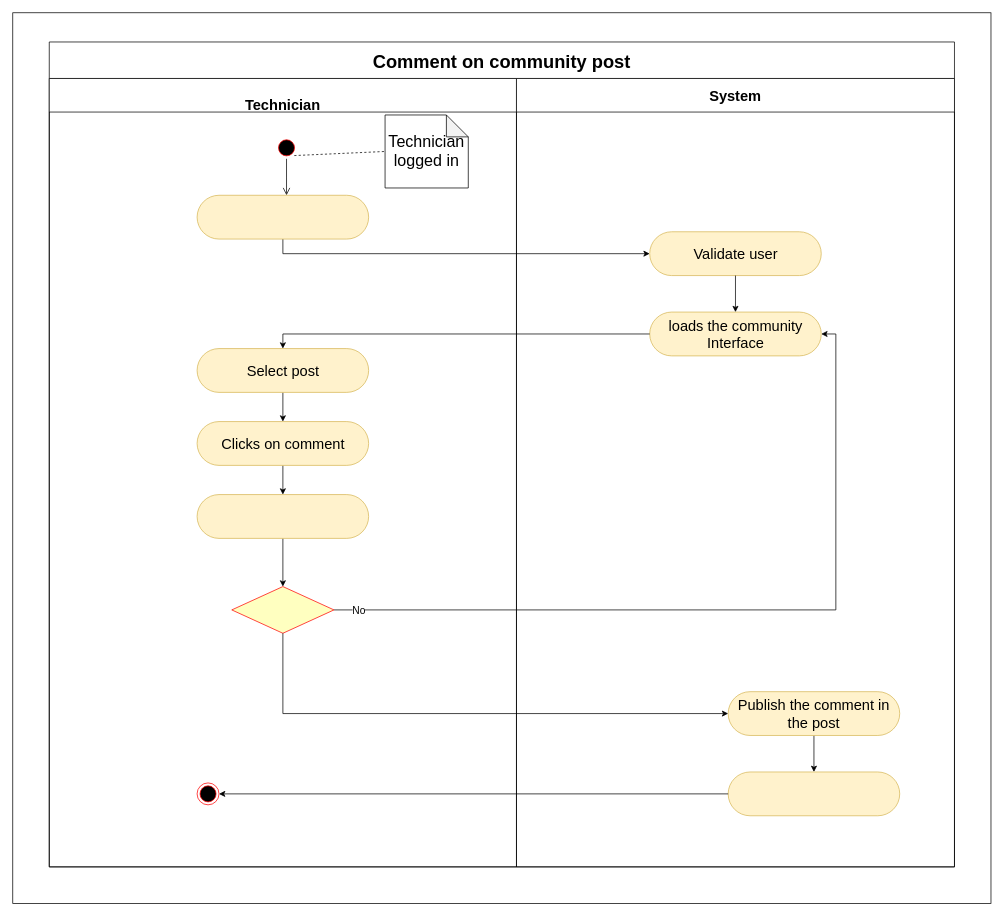
This 1004x916 diagram has some shape labels left out. Each missing label, with the centre of its shape:
"Clicks Post Button" goes at point (282, 516).
"confirm ?" goes at point (282, 609).
"Navigate to community section" goes at point (282, 217).
"Send notification corresponding user" goes at point (813, 793).
